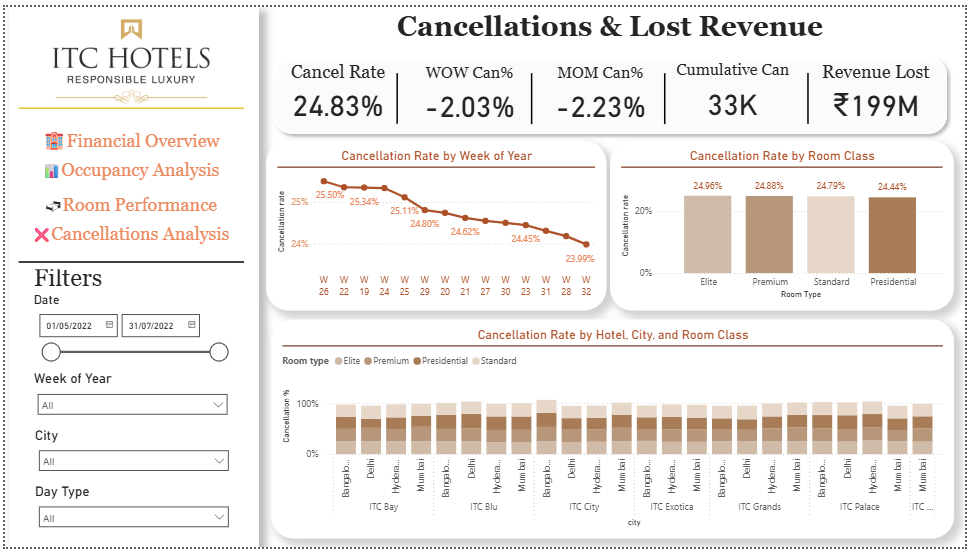

The page's visual inventory and layout, read from the dashboard file:
{"tool":"powerbi","page":{"name":"Cancellations Analysis","canvas":[1280,720],"ordinal":3},"visuals":[{"type":"shape","title":"panel_Sidebar","box":[5,0,333.3,720],"z":0},{"type":"textbox","box":[333.3,0,946.7,56.7],"z":1000},{"type":"shape","box":[348.3,56.7,916.7,121.7],"z":2000},{"type":"textbox","title":"txt_Cancellations","box":[11.8,283.6,311.8,41.8],"z":3000},{"type":"shape","box":[511.2,88.8,22.5,67.5],"z":4000},{"type":"textbox","title":"txt_RoomPerf","box":[11.8,241.8,311.8,41.8],"z":5000},{"type":"card","title":"Cancel Rate","fields":{"Values":["key_measures.Cancellation %"]},"box":[366.2,71.2,155,85],"z":6000},{"type":"textbox","title":"txt_Occupancy","box":[11.8,198.2,311.8,43.6],"z":7000},{"type":"card","title":"WOW Can%","fields":{"Values":["ITC.WOW Can%"]},"box":[535,75,168.3,85],"z":8000},{"type":"textbox","title":"txt_Financial","box":[12,157,312,42],"z":9000},{"type":"card","title":"Revenue Lost","fields":{"Values":["ITC.Revenue Lost"]},"box":[1071.2,71.2,178.8,85],"z":10000},{"type":"actionButton","title":"btn_Cancellations","box":[15,285,313.3,41.7],"z":11000},{"type":"card","title":"Cumulative Can","fields":{"Values":["ITC.Cumulative Cancellations"]},"box":[879.5,71,180.7,85.5],"z":12000},{"type":"actionButton","title":"btn_RoomPerf","box":[15,243.3,313.3,40],"z":13000},{"type":"card","title":"MOM Can%","fields":{"Values":["ITC.MOM Can%"]},"box":[703.6,74.2,180.7,85.5],"z":14000},{"type":"actionButton","title":"btn_Occupancy","box":[11.7,198.3,316.7,45],"z":15000},{"type":"shape","box":[692.3,88.8,21,67.8],"z":16000},{"type":"actionButton","title":"btn_Financial","box":[11.7,156.7,311.7,40],"z":17000},{"type":"shape","box":[868.2,88.8,22.6,67.8],"z":18000},{"type":"shape","box":[1060,88.8,21.2,67.5],"z":19000},{"type":"lineChart","title":"Cancellation Rate by Week of Year","fields":{"Y":["key_measures.Cancellation %"],"Category":["dim_date.week no"]},"box":[348.3,178.3,453.3,226.7],"z":20000},{"type":"columnChart","title":"Cancellation Rate by Room Class","fields":{"Category":["dim_rooms.room_class"],"Y":["key_measures.Cancellation %"]},"box":[806.7,178.3,458.3,226.7],"z":21000},{"type":"columnChart","title":"Cancellation Rate by Hotel, City, and Room Class","fields":{"Category":["dim_hotels.property_name","dim_hotels.city"],"Series":["dim_rooms.room_class"],"Y":["key_measures.Cancellation %"]},"box":[355,416.7,910,291.7],"z":22000},{"type":"shape","box":[18.3,123.3,300,23.3],"z":25000},{"type":"shape","box":[18.3,320,300,40],"z":26001},{"type":"slicer","title":"Date","fields":{"Values":["dim_date.date"]},"box":[33.3,380,273.3,105],"z":26002},{"type":"textbox","box":[33.3,345,173.3,46.7],"z":26003},{"type":"slicer","title":"Week of Year","fields":{"Values":["dim_date.week no"]},"box":[33.3,485,273.3,75],"z":26004},{"type":"slicer","title":"City","fields":{"Values":["dim_hotels.city"]},"box":[35,560,273.3,75],"z":26005},{"type":"slicer","title":"Day Type","fields":{"Values":["dim_date.day type"]},"box":[35,635,273.3,75],"z":26006},{"type":"image","box":[18.3,11.7,300,121.7],"z":26007}]}

Visuals, with their boxes in screenshot pixels (x1, y1, x2, y2), scaled from the page's 1280x720 canvas onto the 967x550 screenshot:
"panel_Sidebar" shape: bbox=[4, 0, 256, 549]
textbox: bbox=[252, 0, 966, 43]
shape: bbox=[263, 43, 956, 136]
"txt_Cancellations" textbox: bbox=[9, 217, 244, 249]
shape: bbox=[386, 68, 403, 119]
"txt_RoomPerf" textbox: bbox=[9, 185, 244, 217]
"Cancel Rate" card: bbox=[277, 54, 394, 119]
"txt_Occupancy" textbox: bbox=[9, 151, 244, 185]
"WOW Can%" card: bbox=[404, 57, 531, 122]
"txt_Financial" textbox: bbox=[9, 120, 245, 152]
"Revenue Lost" card: bbox=[809, 54, 944, 119]
"btn_Cancellations" actionButton: bbox=[11, 218, 248, 250]
"Cumulative Can" card: bbox=[664, 54, 801, 120]
"btn_RoomPerf" actionButton: bbox=[11, 186, 248, 216]
"MOM Can%" card: bbox=[532, 57, 668, 122]
"btn_Occupancy" actionButton: bbox=[9, 151, 248, 186]
shape: bbox=[523, 68, 539, 120]
"btn_Financial" actionButton: bbox=[9, 120, 244, 150]
shape: bbox=[656, 68, 673, 120]
shape: bbox=[801, 68, 817, 119]
"Cancellation Rate by Week of Year" lineChart: bbox=[263, 136, 606, 309]
"Cancellation Rate by Room Class" columnChart: bbox=[609, 136, 956, 309]
"Cancellation Rate by Hotel, City, and Room Class" columnChart: bbox=[268, 318, 956, 541]
shape: bbox=[14, 94, 240, 112]
shape: bbox=[14, 244, 240, 275]
"Date" slicer: bbox=[25, 290, 232, 370]
textbox: bbox=[25, 264, 156, 299]
"Week of Year" slicer: bbox=[25, 370, 232, 428]
"City" slicer: bbox=[26, 428, 233, 485]
"Day Type" slicer: bbox=[26, 485, 233, 542]
image: bbox=[14, 9, 240, 102]
